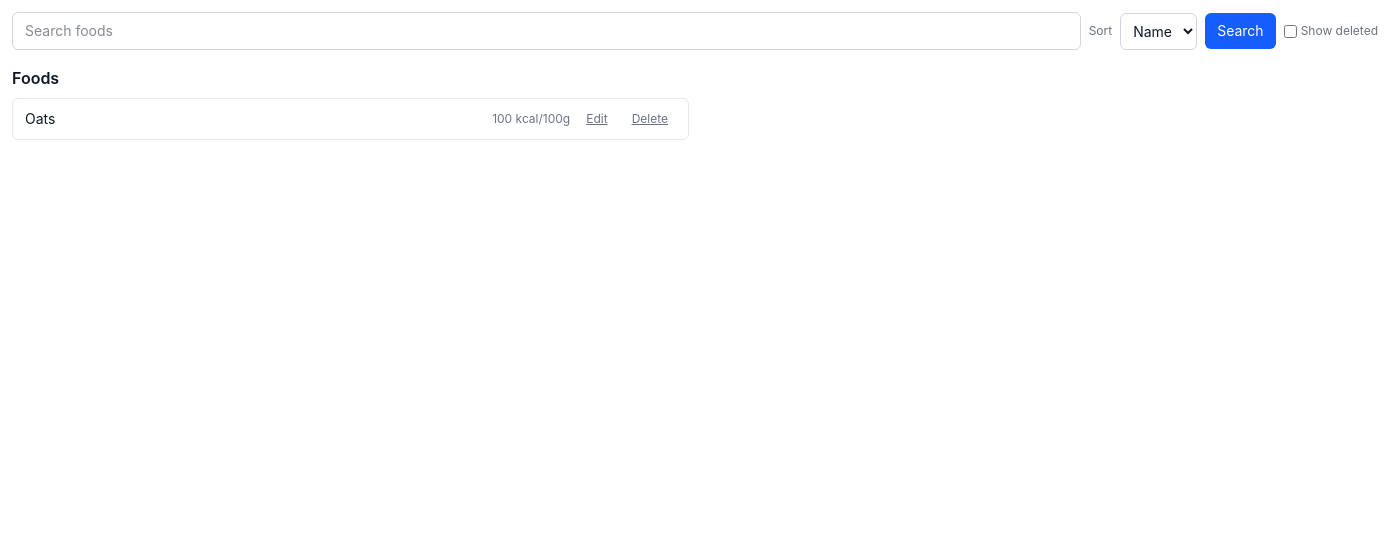
FoodDatabase › opens a pre-filled editor on Edit and persists via updateFood
This screenshot has width=1390, height=535.
Later steps or results of the test are not shown.
Click the button with aria-label "Edit Oats" at {"x": 597, "y": 119}, box [578,107,616,131]
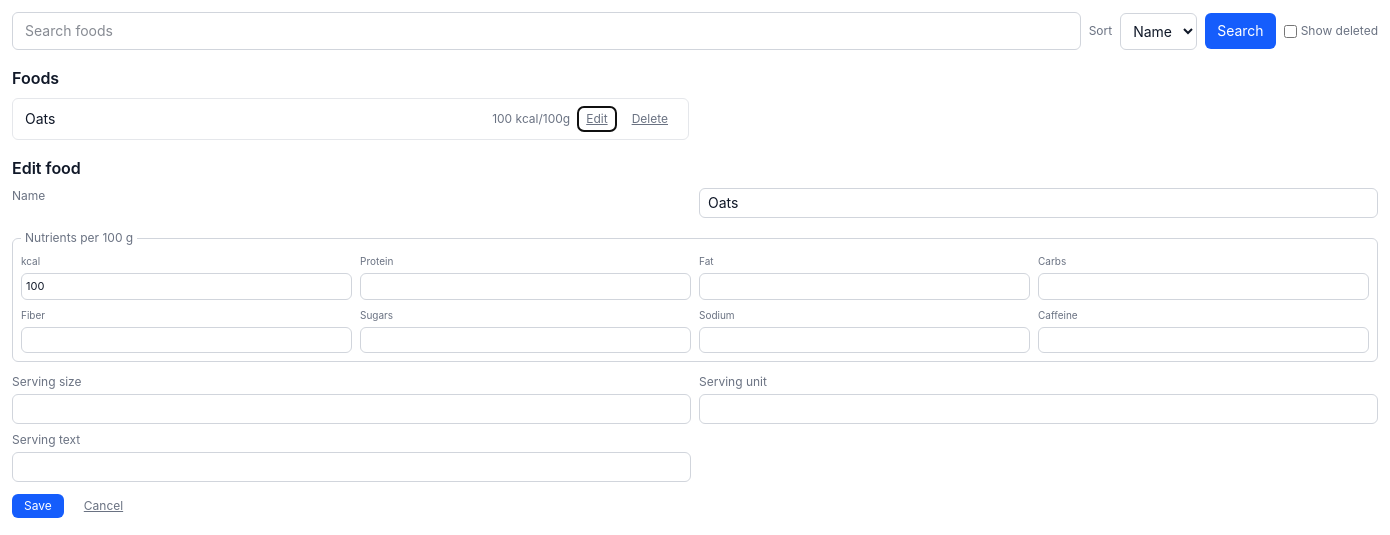
Check: the field labelled "Name" holds "Oats", box [699,188,1378,218]
